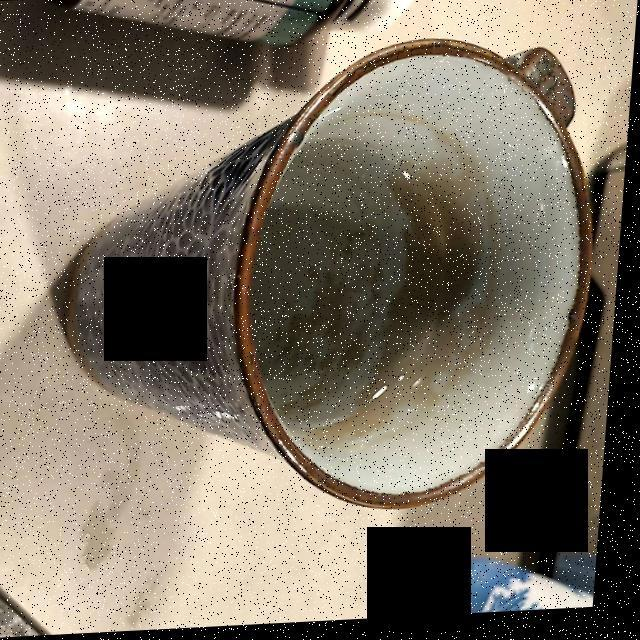water: (244, 99, 506, 451)
